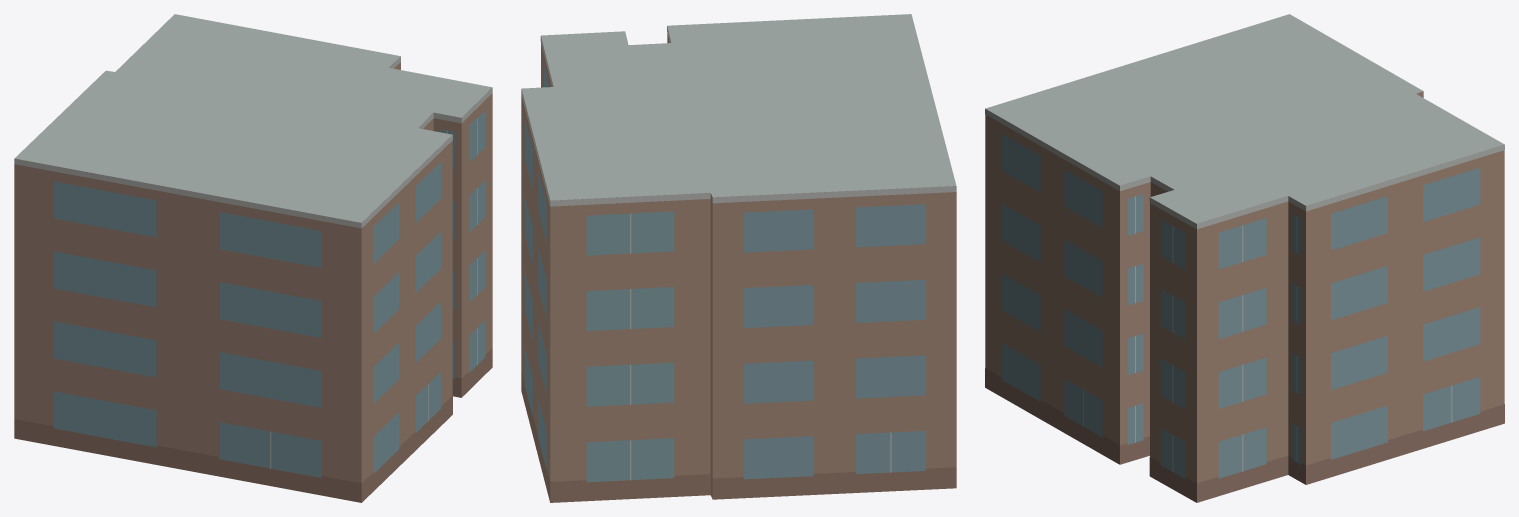
Rendered from survey-upis-32691636.glb.
3 renders of one model, left to right at view 1: azimuth 30°, elevation 25°; view 2: azimuth 150°, elevation 25°; view 3: azimuth 270°, elevation 25°, orthographic. The views are drawn at different scales.
Parts seen in each view (by area): view 1: survey-upis-32691636.tmp; view 2: survey-upis-32691636.tmp; view 3: survey-upis-32691636.tmp.
Boxes of the visible parts, x1=… form: survey-upis-32691636.tmp: x1=14, y1=14, x2=492, y2=502; survey-upis-32691636.tmp: x1=521, y1=14, x2=956, y2=502; survey-upis-32691636.tmp: x1=985, y1=14, x2=1504, y2=502.
Bounding box in the file's own units: 19.69 × 12.2 × 20.6.
